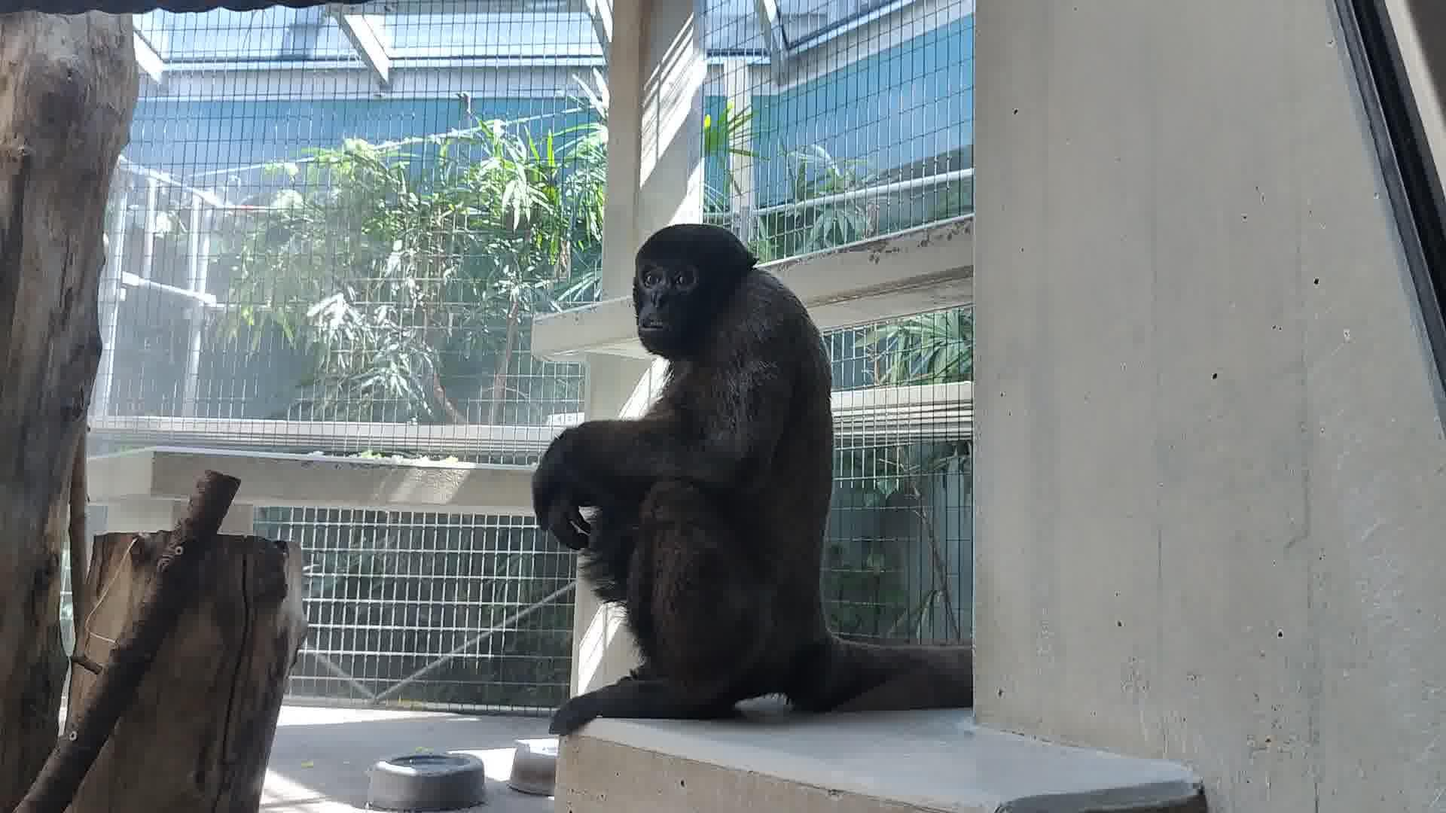boar: (532, 223, 971, 738)
